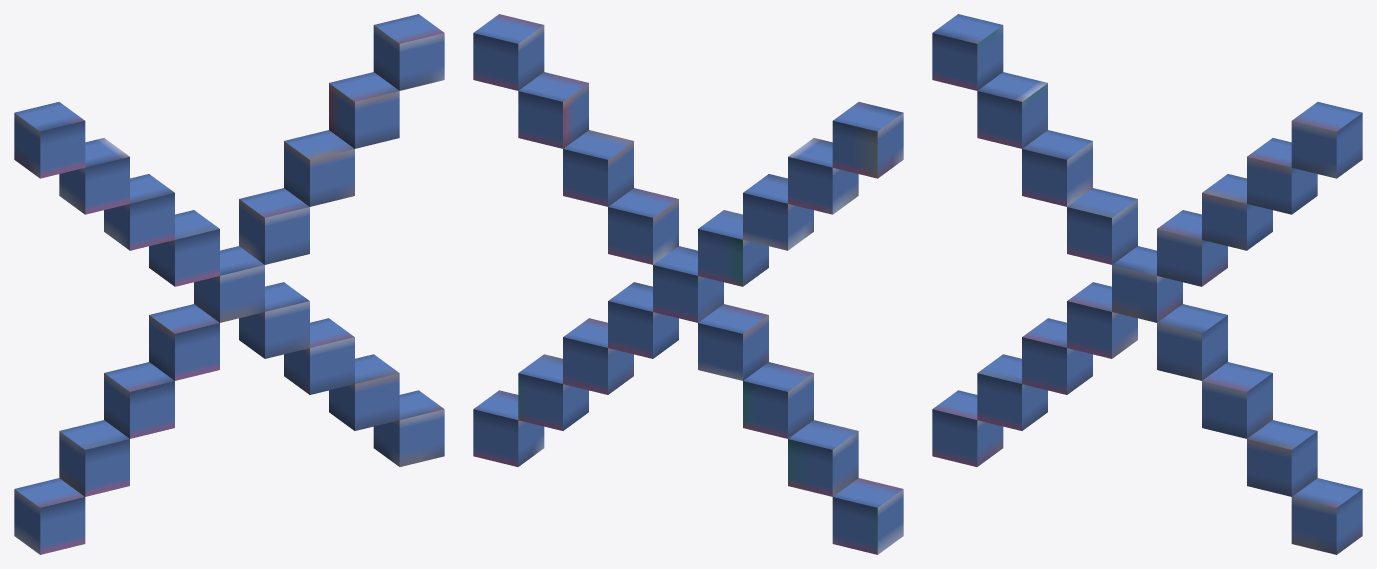
File: Matrix_8.dae
3 views of the same model, side by side, from view 1: azimuth 30°, elevation 25°; view 2: azimuth 150°, elevation 25°; view 3: azimuth 330°, elevation 25° (orthographic).
Visible parts, largest first — view 1: Matrix_8; view 2: Matrix_8; view 3: Matrix_8.
Part boxes in pixels (bbox=[...]): Matrix_8: bbox=[14, 14, 444, 554]; Matrix_8: bbox=[473, 14, 903, 554]; Matrix_8: bbox=[932, 14, 1362, 554].
Size of the model in its own units: 9 by 9 by 1.
